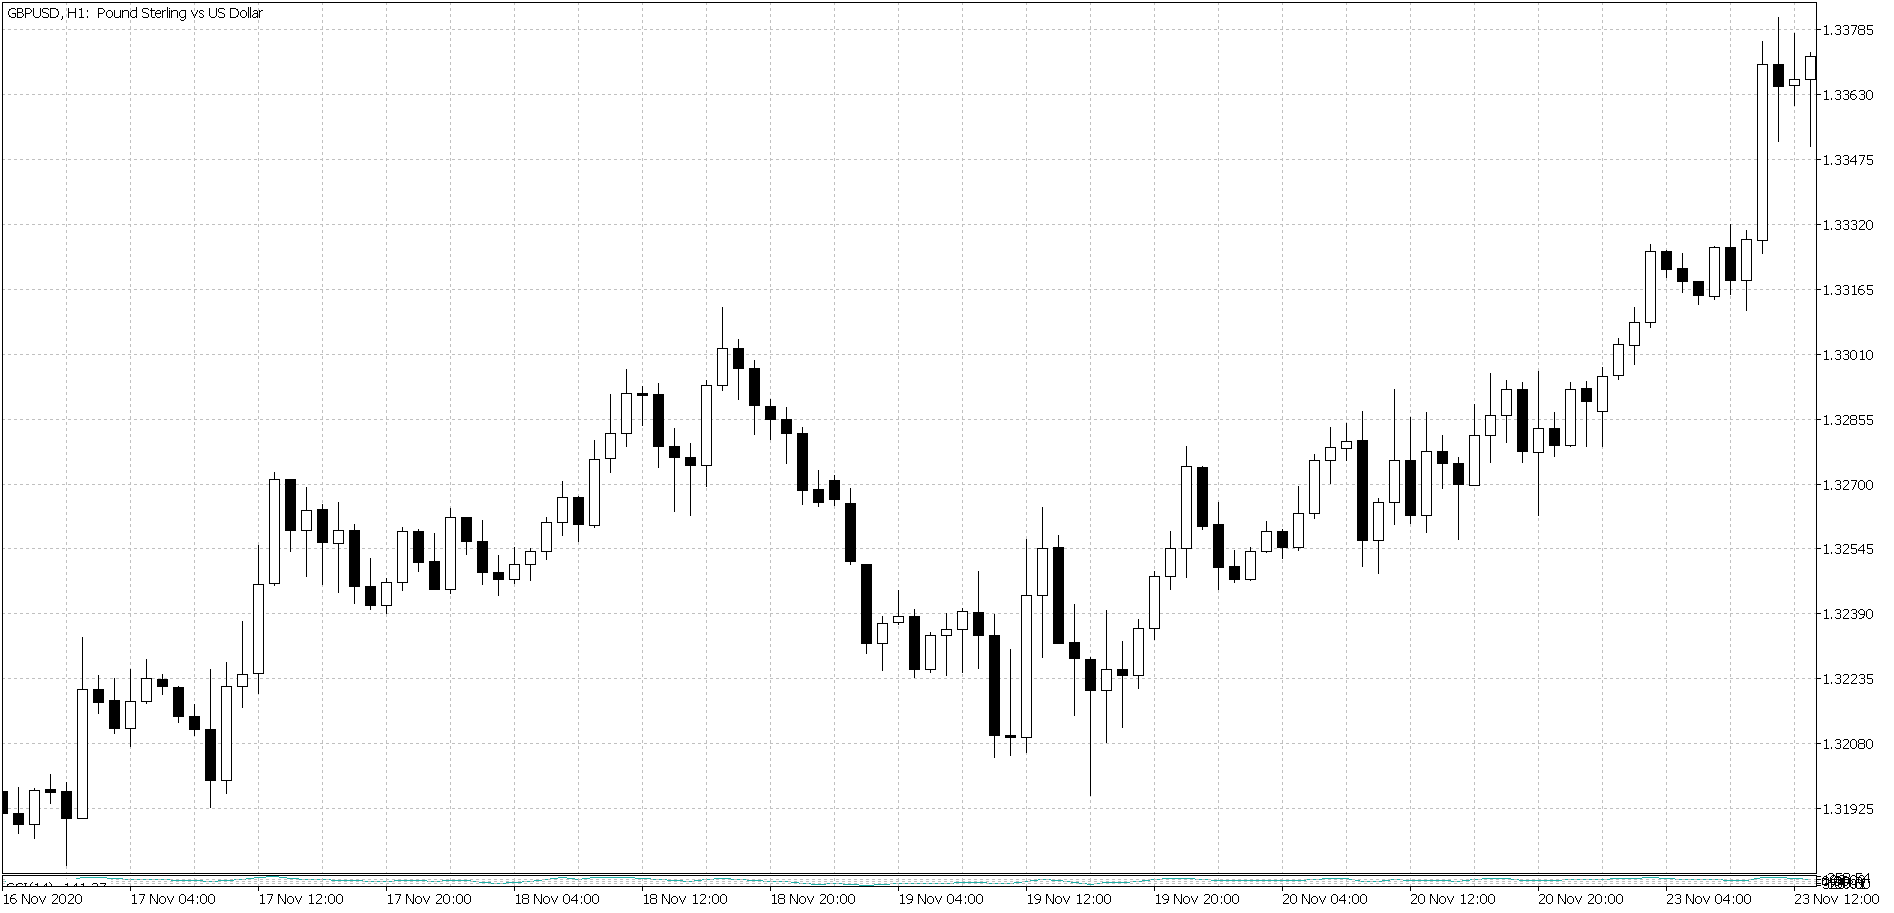3blackcrows: (731, 328, 778, 447)
bullishEngulfing: (203, 665, 234, 807)
eveningStar: (618, 367, 667, 477)
morningDojiStar: (987, 560, 1035, 760)
morningStar: (1212, 494, 1257, 600), (475, 516, 524, 601)
